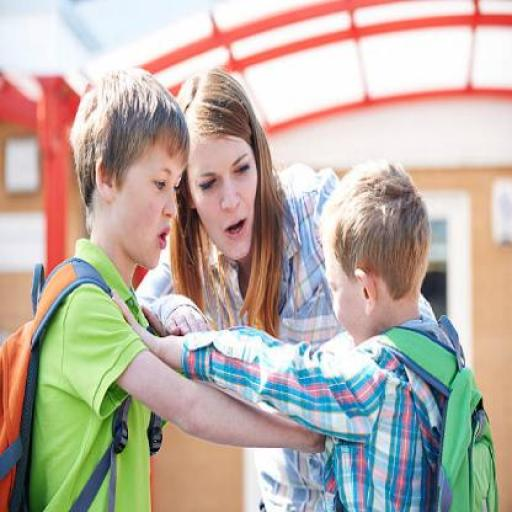Fighting: (33, 73, 486, 512)
